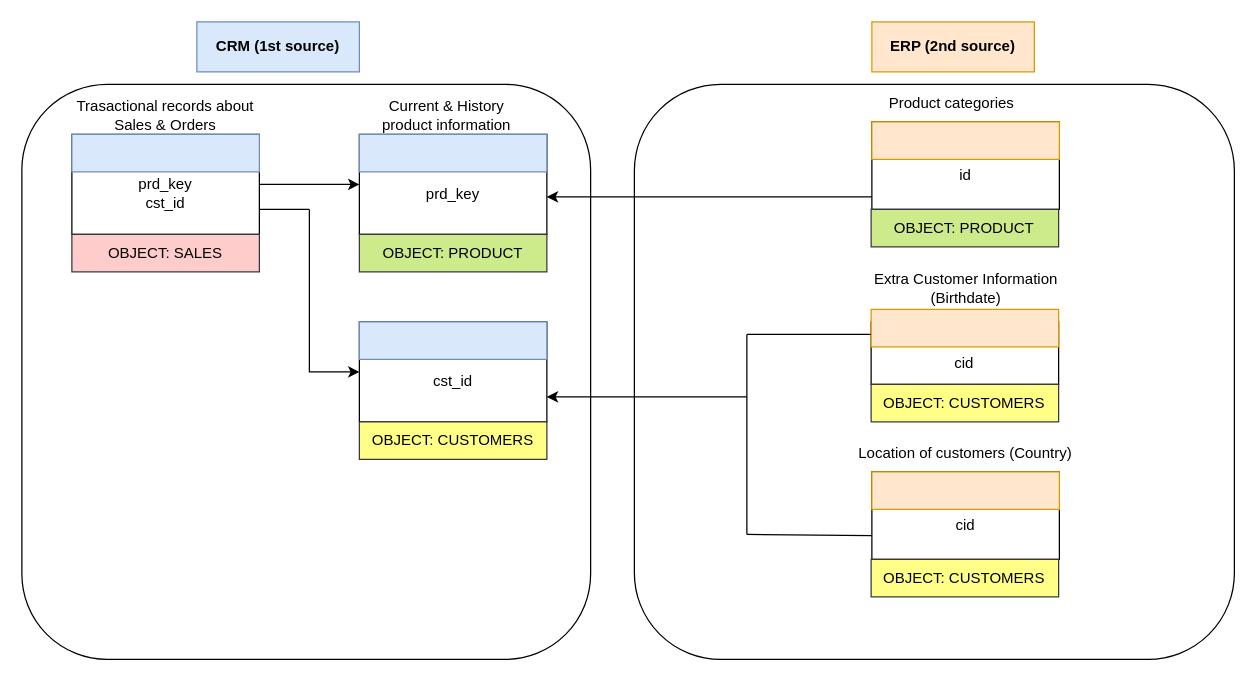
Image size: 1256x681. Some labels were removed from this diagram. Each missing label, with the centre of its shape:
crm_cust_info: the point at 452,340
crm_prd_info: the point at 452,152
crm_sales_details: the point at 165,152
erp_cust_az12: the point at 964,327
erp_loc_a101: the point at 965,490
erp_px_cat_g1v2: the point at 965,140
